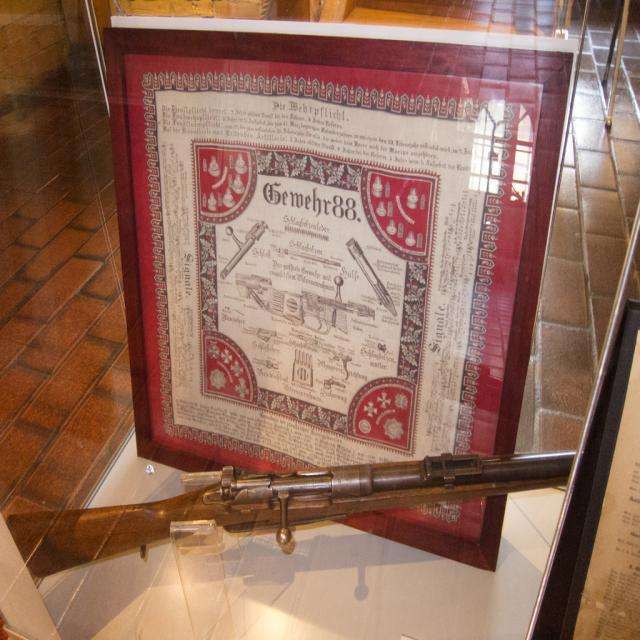weapon: (7, 452, 577, 580)
